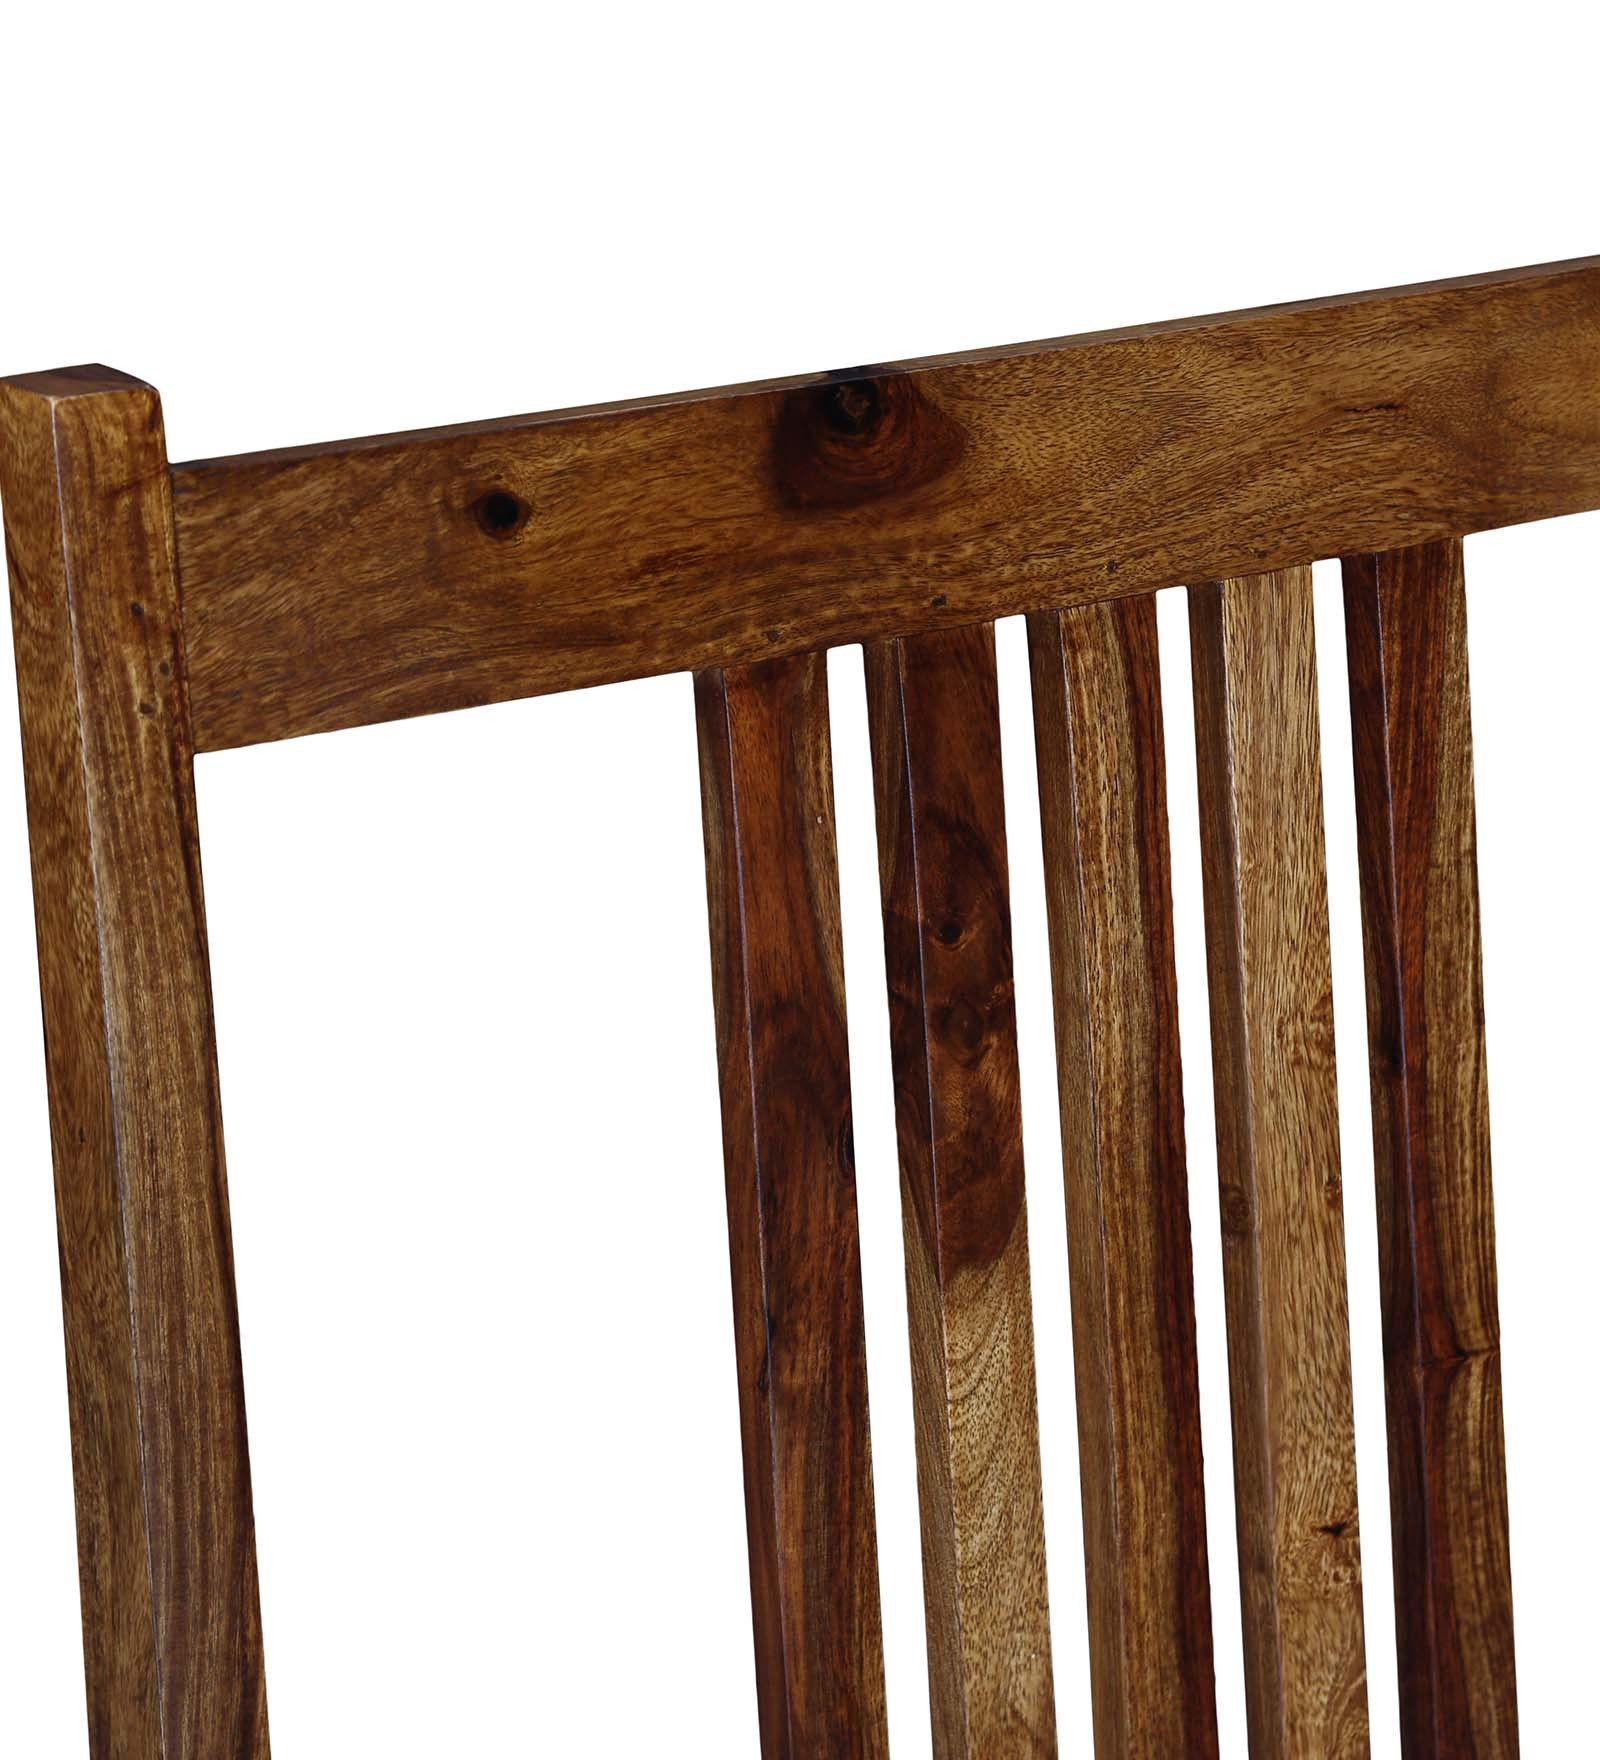Harleston Arm Chair in Provincial Teak Finish by Amberville: (14, 258, 1592, 1760)
